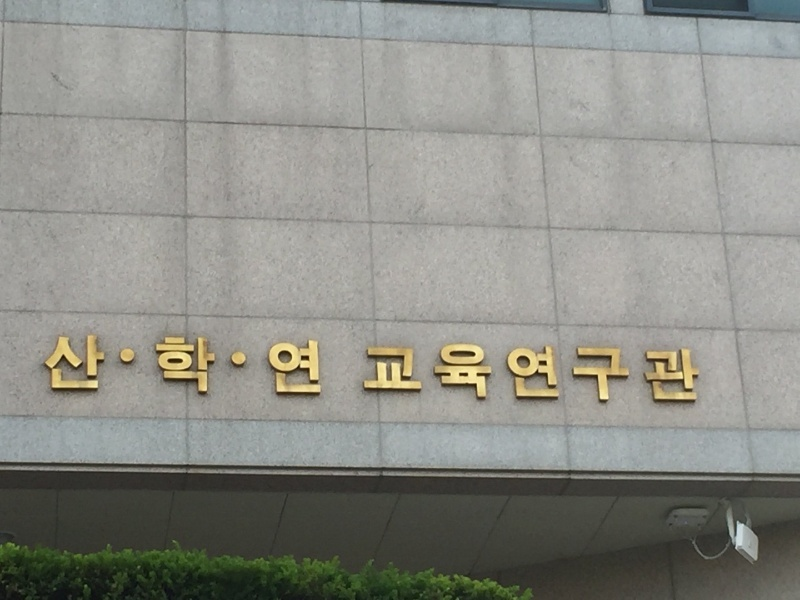text: (49, 334, 64, 400), (65, 334, 80, 400), (81, 334, 96, 400), (97, 334, 112, 400), (113, 334, 128, 400), (129, 334, 144, 400), (145, 334, 160, 400), (161, 334, 176, 400), (177, 334, 192, 400), (193, 334, 208, 400), (209, 334, 224, 400), (225, 334, 240, 400), (241, 334, 256, 400), (257, 334, 272, 400), (273, 334, 288, 400), (289, 334, 304, 400), (305, 334, 320, 400), (369, 343, 384, 408), (385, 343, 400, 408), (401, 343, 416, 408), (417, 343, 432, 408), (433, 343, 448, 408), (449, 343, 464, 408), (465, 343, 480, 408), (481, 343, 496, 408), (497, 343, 512, 408), (513, 343, 528, 408), (529, 343, 544, 408), (545, 343, 560, 408), (561, 343, 576, 408), (577, 343, 592, 408), (593, 343, 608, 408), (609, 343, 624, 408), (625, 343, 640, 408), (641, 343, 656, 408), (657, 343, 672, 408), (673, 343, 688, 408), (689, 343, 704, 408), (41, 334, 48, 400), (362, 343, 368, 408), (321, 334, 324, 400), (705, 343, 708, 408)
